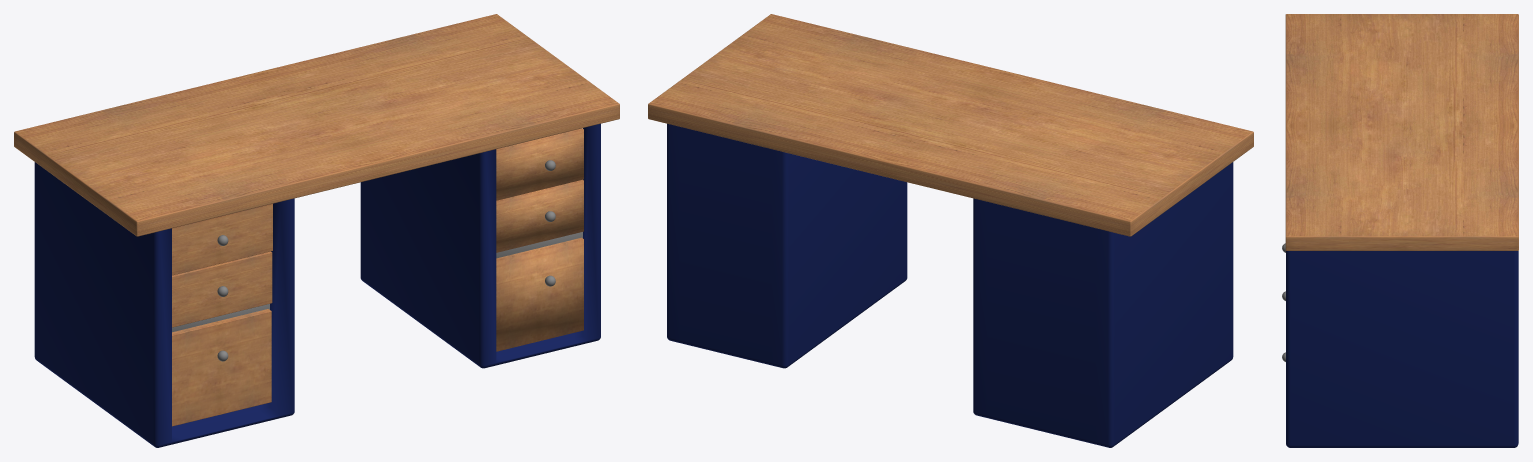
File: Desk.fbx
3 renders of one model, left to right at view 1: azimuth 30°, elevation 25°; view 2: azimuth 150°, elevation 25°; view 3: azimuth 270°, elevation 25°, orthographic. The views are drawn at different scales.
Visible parts, largest first — view 1: Planche, Base-, Base, Tiroir-3, Tiroir-3.1, Tiroir-2, Tiroir 1-, Tiroir-2.1, Tiroir 1-.1; view 2: Planche, Base-, Base; view 3: Planche, Base.
Boxes of the visible parts, bbox=[...] form: Planche: bbox=[14, 14, 619, 236]; Base-: bbox=[34, 162, 294, 447]; Base: bbox=[360, 123, 600, 368]; Tiroir-3: bbox=[172, 309, 271, 426]; Tiroir-3.1: bbox=[496, 237, 583, 351]; Tiroir-2: bbox=[172, 251, 272, 327]; Tiroir 1-: bbox=[172, 204, 272, 275]; Tiroir-2.1: bbox=[496, 179, 583, 252]; Tiroir 1-.1: bbox=[496, 128, 583, 200]; Planche: bbox=[648, 14, 1253, 236]; Base-: bbox=[973, 162, 1233, 447]; Base: bbox=[667, 123, 907, 368]; Planche: bbox=[1285, 14, 1518, 250]; Base: bbox=[1286, 251, 1518, 447].
Size of the model in its own units: 454 by 210 by 204.
Materials: 4 (1 with a texture image).
